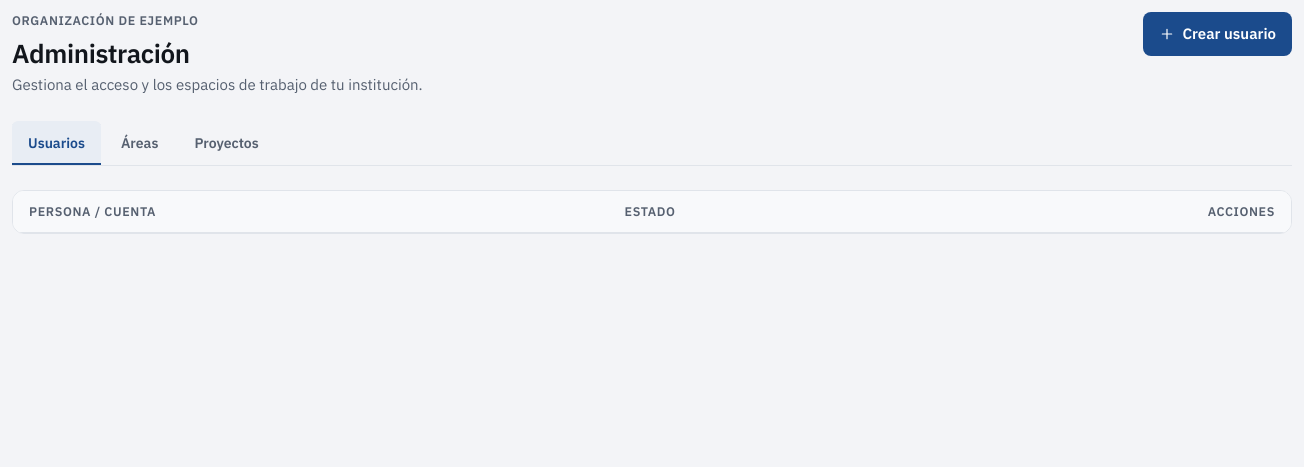
Test case: Proyectos muestra los de toda la institución, también los ajenos y los sin administrador, sin ofrecer abrirlos
Step 1. Click the button "Proyectos" → coordinates (227, 143), box [178,121,275,165]
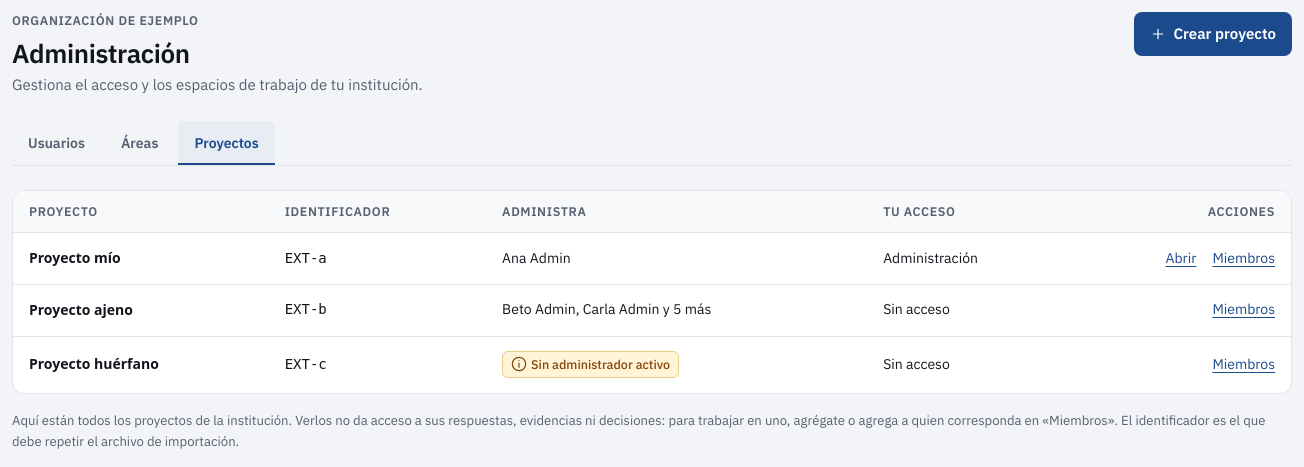
Expected: the text "Proyecto ajeno" is shown, [29,300,133,319]
Expected: the text "Beto Admin, Carla Admin y 5 más" is shown, [502,300,711,318]
Expected: the text "Sin acceso" is shown 2 times, [867,284,1067,336]; [867,336,1067,393]
